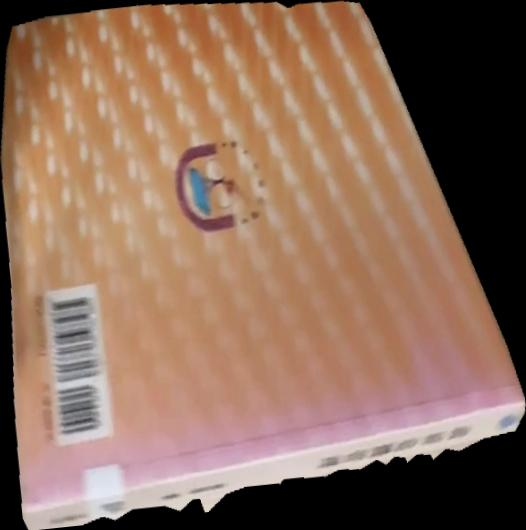flat: (1, 1, 526, 530)
